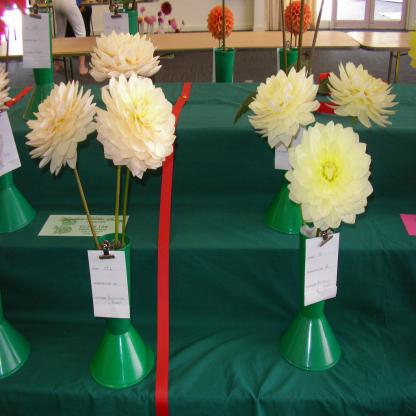vase: (88, 230, 155, 390), (278, 220, 344, 372), (24, 7, 58, 122), (262, 170, 304, 235), (0, 295, 32, 380), (0, 168, 37, 234), (109, 6, 141, 35), (214, 44, 235, 83), (278, 45, 300, 74)
